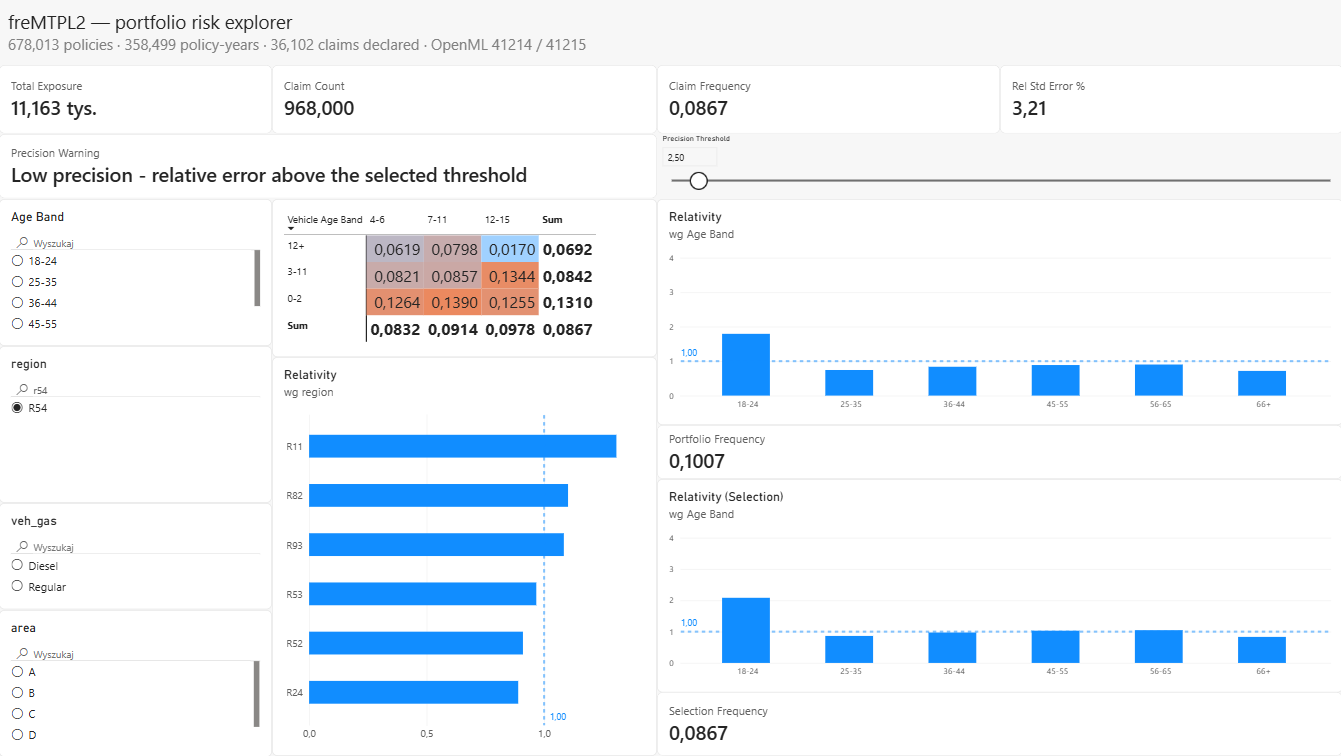

The dashboard page shown, as its layout file describes it:
{"tool":"powerbi","page":{"name":"Portfolio risk","canvas":[1920,1080],"ordinal":1},"visuals":[{"type":"listSlicer","fields":{"Values":["policy.region"]},"box":[0,494.8,389.9,224.5],"z":0},{"type":"listSlicer","fields":{"Values":["policy.Age Band"]},"box":[0,284.3,390,210],"z":1000},{"type":"listSlicer","fields":{"Values":["policy.veh_gas"]},"box":[0,719.3,389.9,152.1],"z":2000},{"type":"listSlicer","fields":{"Values":["policy.area"]},"box":[0,871.4,389.9,209.7],"z":3000},{"type":"clusteredColumnChart","fields":{"Category":["policy.Age Band"],"Y":["policy.Relativity"]},"box":[940,284.3,980,322.9],"z":4000},{"type":"clusteredColumnChart","fields":{"Category":["policy.Age Band"],"Y":["policy.Relativity (Selection)"]},"box":[940.2,684.2,979.8,304.8],"z":5000},{"type":"cardVisual","fields":{"Data":["claim.Precision Warning"]},"box":[0,191.4,940,92.9],"z":6000},{"type":"cardVisual","fields":{"Data":["policy.Portfolio Frequency"]},"box":[940.2,606.5,979.8,77.7],"z":7000},{"type":"cardVisual","fields":{"Data":["policy.Selection Frequency"]},"box":[940.2,989,979.8,91.4],"z":8000},{"type":"pivotTable","fields":{"Columns":["policy.Vehicle Power Band"],"Rows":["policy.Vehicle Age Band"],"Values":["policy.Claim Frequency"]},"box":[390,284.3,550,225.7],"z":9000},{"type":"textbox","box":[12.9,12.9,1907.1,68.6],"z":10000},{"type":"clusteredBarChart","fields":{"Category":["policy.region"],"Y":["policy.Relativity"]},"box":[390,510,550,570],"z":11000},{"type":"slicer","fields":{"Values":["Precision Threshold.Precision Threshold"]},"box":[940,191.4,980,92.9],"z":12000},{"type":"cardVisual","fields":{"Data":["policy.Total Exposure"]},"box":[0,92.9,390,98.6],"z":12001},{"type":"cardVisual","fields":{"Data":["policy.Claim Count"]},"box":[390,92.9,550,98.6],"z":12002},{"type":"cardVisual","fields":{"Data":["policy.Claim Frequency"]},"box":[940,92.9,490,98.6],"z":12003},{"type":"cardVisual","fields":{"Data":["policy.Rel Std Error %"]},"box":[1430,92.9,490,98.6],"z":12004}]}

Visuals, with their boxes in screenshot pixels (x1, y1, x2, y2), scaled from the page's 1920x1080 canvas onto the 1341x756 screenshot:
listSlicer - policy.region: crop(0, 346, 272, 504)
listSlicer - policy.Age Band: crop(0, 199, 272, 346)
listSlicer - policy.veh_gas: crop(0, 504, 272, 610)
listSlicer - policy.area: crop(0, 610, 272, 755)
clusteredColumnChart - policy.Age Band x policy.Relativity: crop(657, 199, 1340, 425)
clusteredColumnChart - policy.Age Band x policy.Relativity (Selection): crop(657, 479, 1340, 692)
cardVisual - claim.Precision Warning: crop(0, 134, 657, 199)
cardVisual - policy.Portfolio Frequency: crop(657, 425, 1340, 479)
cardVisual - policy.Selection Frequency: crop(657, 692, 1340, 755)
pivotTable - policy.Vehicle Power Band x policy.Vehicle Age Band: crop(272, 199, 657, 357)
textbox: crop(9, 9, 1340, 57)
clusteredBarChart - policy.region x policy.Relativity: crop(272, 357, 657, 755)
slicer - Precision Threshold.Precision Threshold: crop(657, 134, 1340, 199)
cardVisual - policy.Total Exposure: crop(0, 65, 272, 134)
cardVisual - policy.Claim Count: crop(272, 65, 657, 134)
cardVisual - policy.Claim Frequency: crop(657, 65, 999, 134)
cardVisual - policy.Rel Std Error %: crop(999, 65, 1340, 134)
